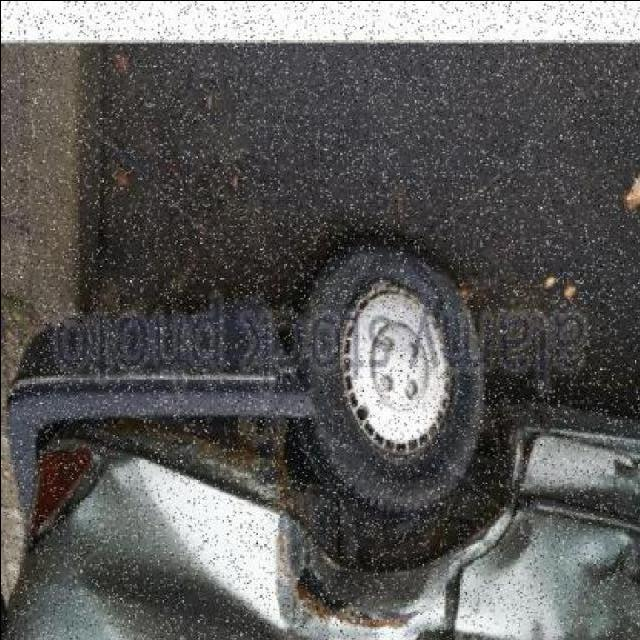doorouter-dent: (460, 423, 640, 640)
quaterpanel-dent: (105, 499, 449, 640)
